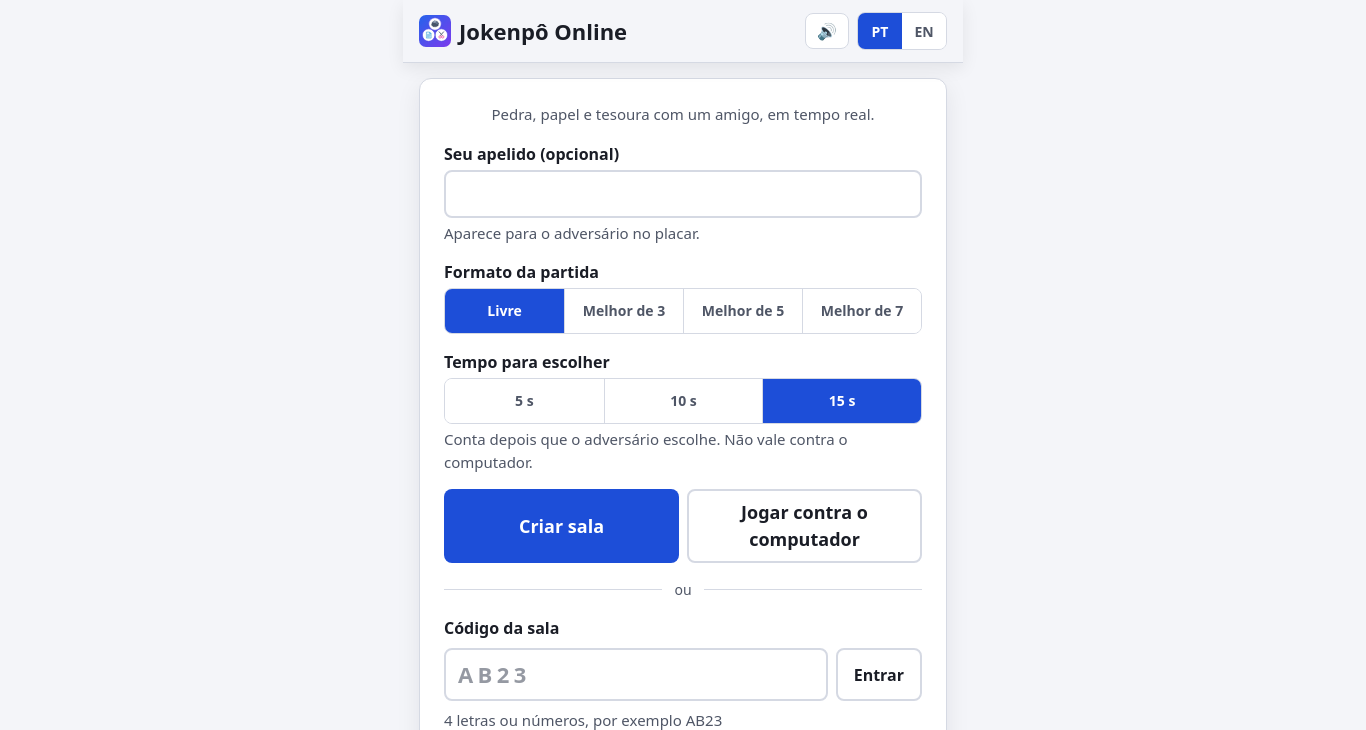
espera e jogo › pedido de reset do adversário abre um diálogo para aceitar ou recusar
This screenshot has width=1366, height=730.
Click the button "Criar sala": (562, 526) x1=444 y1=489 x2=679 y2=563
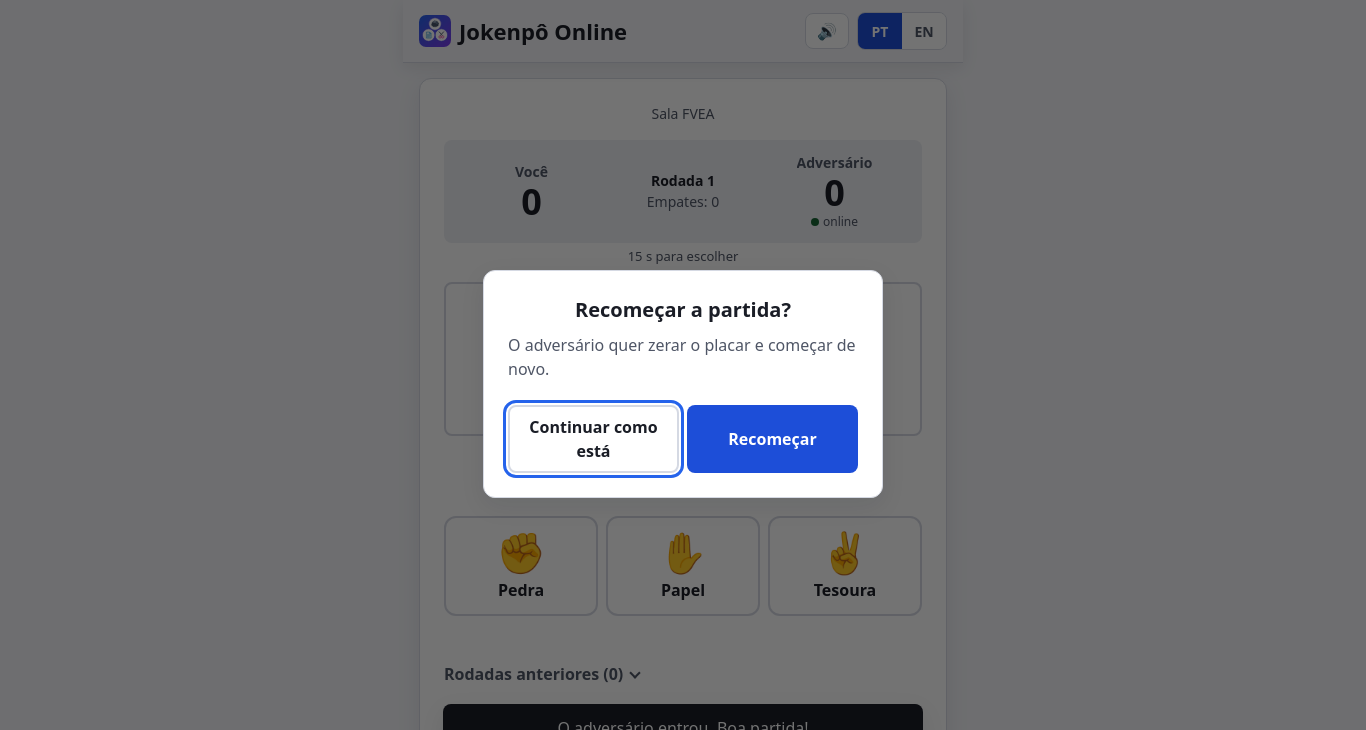
Expected: the dialog "Recomeçar a partida?" is shown, x1=483 y1=270 x2=883 y2=498
Click the button "Continuar como está": (594, 439) x1=508 y1=405 x2=679 y2=473
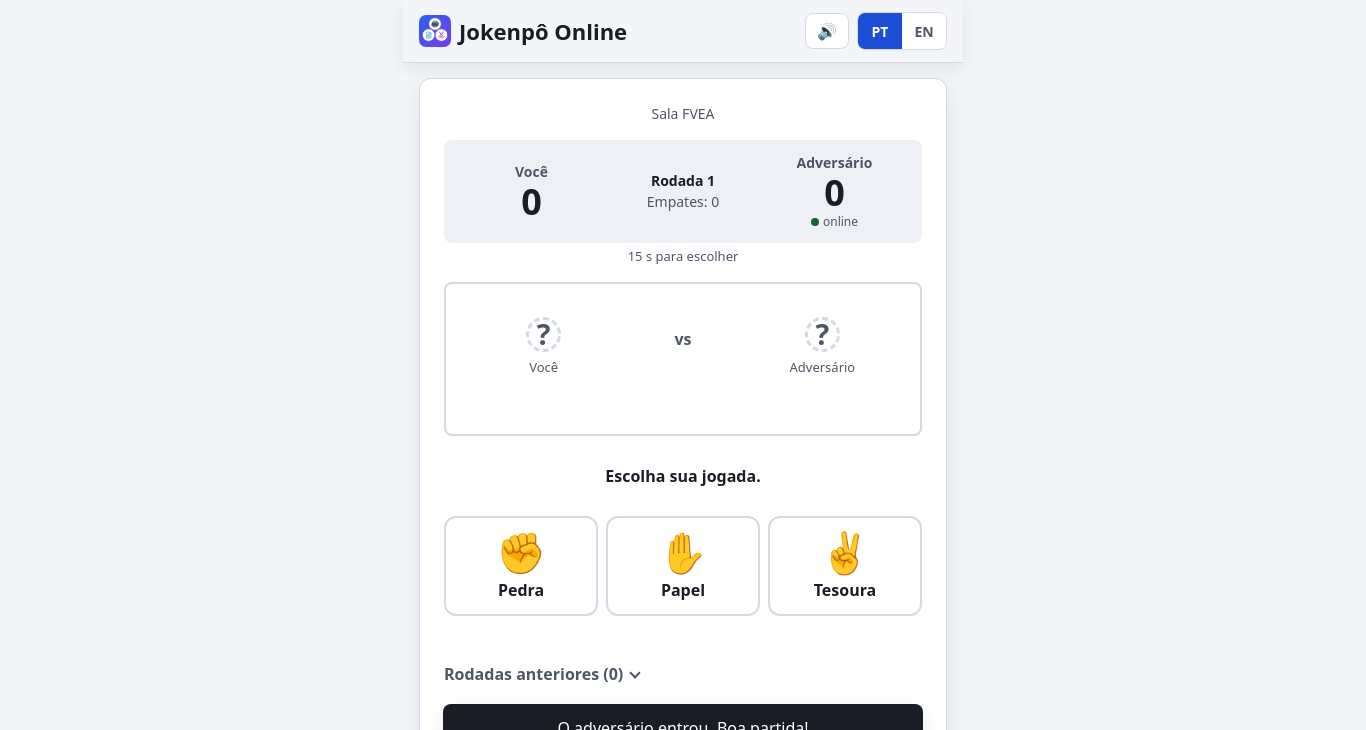
Expected: the heading "Recomeçar a partida?" is gone
